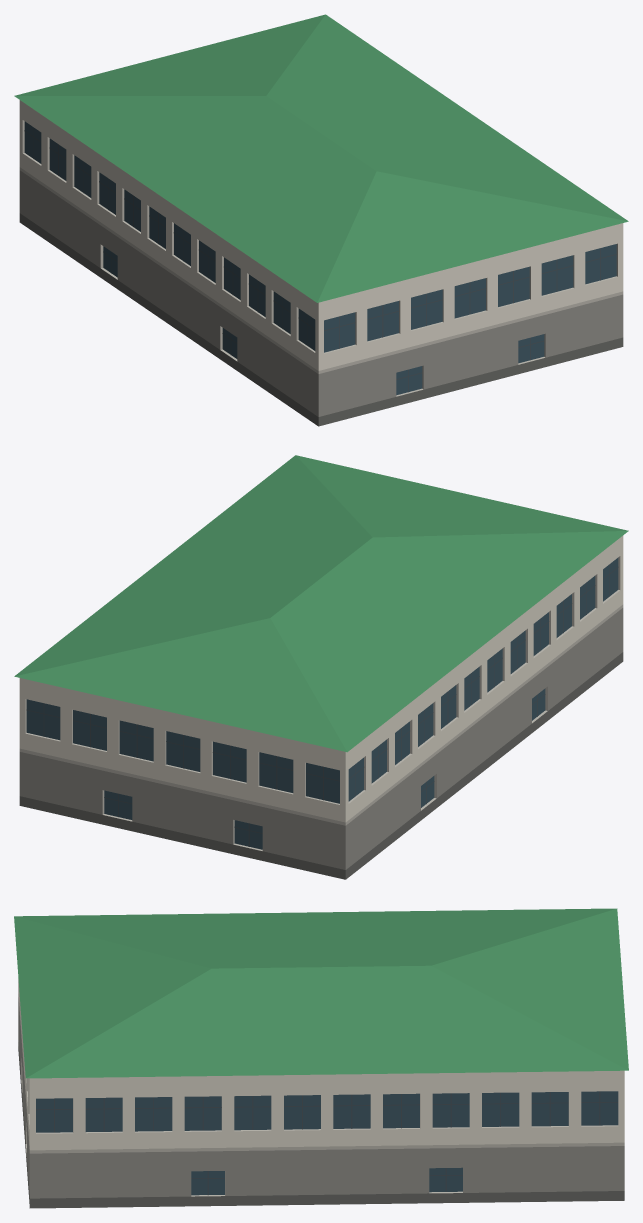
The picture shows the model from 3 angles, top to bottom: view 1: azimuth 30°, elevation 25°; view 2: azimuth 150°, elevation 25°; view 3: azimuth 270°, elevation 25°; orthographic projection. The views are drawn at different scales.
Parts seen in each view (by area): view 1: hall3__roof, hall3__wall-plaster, hall3__brick, hall3__glass, hall3__base-stone, hall3__trim-concrete, hall3__frame; view 2: hall3__roof, hall3__wall-plaster, hall3__brick, hall3__glass, hall3__base-stone, hall3__trim-concrete, hall3__frame; view 3: hall3__roof, hall3__wall-plaster, hall3__brick, hall3__glass, hall3__base-stone, hall3__trim-concrete, hall3__frame.
Part boxes in pixels (bbox=[...]): hall3__roof: bbox=[14, 14, 628, 302]; hall3__wall-plaster: bbox=[19, 100, 623, 370]; hall3__brick: bbox=[19, 170, 623, 416]; hall3__glass: bbox=[24, 121, 616, 395]; hall3__base-stone: bbox=[19, 213, 623, 426]; hall3__trim-concrete: bbox=[19, 120, 623, 396]; hall3__frame: bbox=[24, 127, 616, 392]; hall3__roof: bbox=[14, 455, 628, 752]; hall3__wall-plaster: bbox=[19, 535, 623, 822]; hall3__brick: bbox=[19, 608, 623, 869]; hall3__glass: bbox=[26, 557, 618, 849]; hall3__base-stone: bbox=[19, 652, 623, 879]; hall3__trim-concrete: bbox=[19, 556, 623, 850]; hall3__frame: bbox=[26, 564, 618, 846]; hall3__roof: bbox=[14, 908, 628, 1078]; hall3__wall-plaster: bbox=[18, 979, 624, 1150]; hall3__brick: bbox=[18, 997, 624, 1198]; hall3__glass: bbox=[36, 1091, 618, 1195]; hall3__base-stone: bbox=[18, 1042, 624, 1208]; hall3__trim-concrete: bbox=[18, 994, 624, 1196]; hall3__frame: bbox=[36, 1091, 618, 1195].
Bounding box in the file's own units: 33.24 × 14.42 × 50.82.
